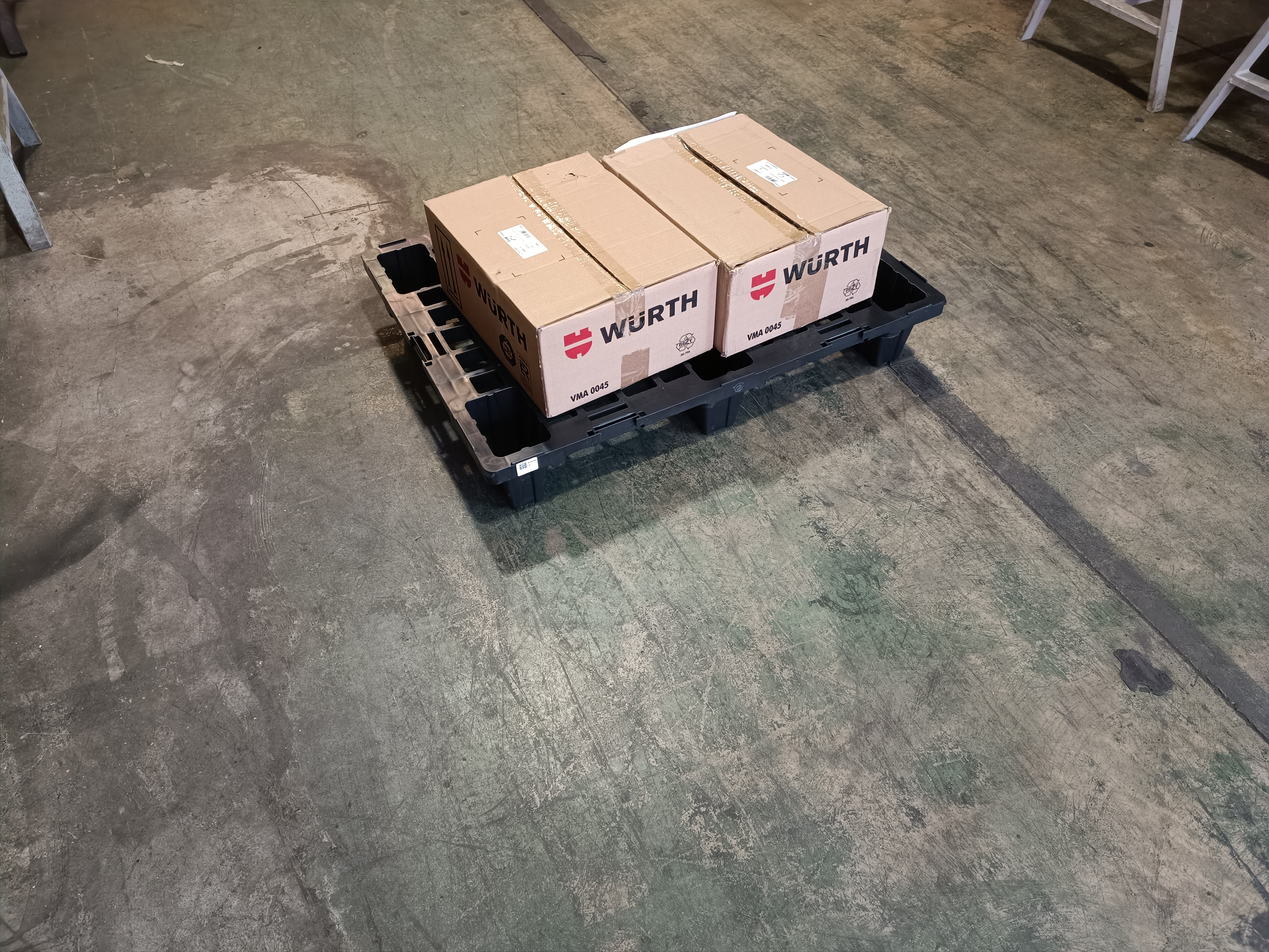block: (485, 445, 563, 518), (863, 304, 924, 372), (700, 377, 750, 439)
front: (489, 299, 947, 516)
hole pallet: (558, 412, 711, 503), (747, 335, 881, 427)
